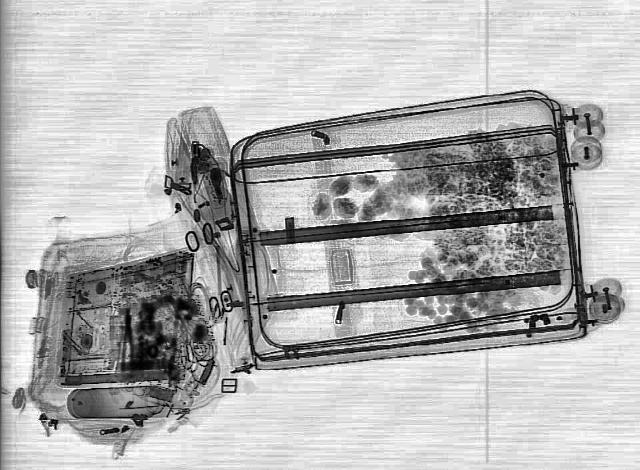Pliers: (120, 307, 132, 370)
